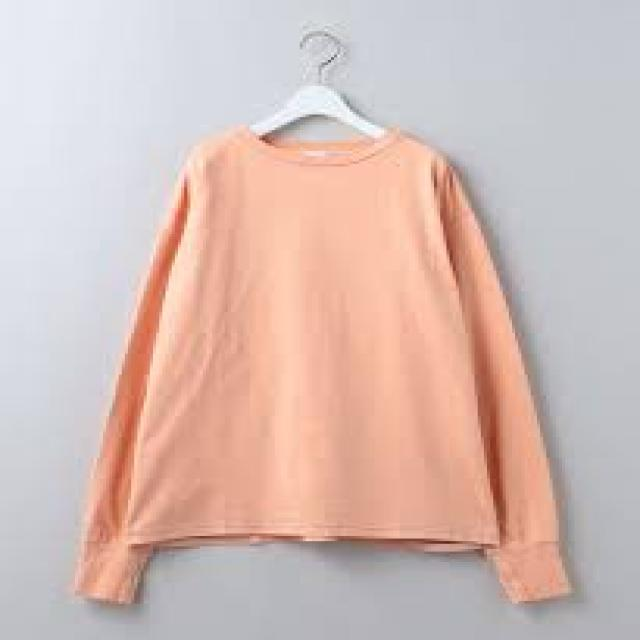plain: (102, 113, 584, 612)
